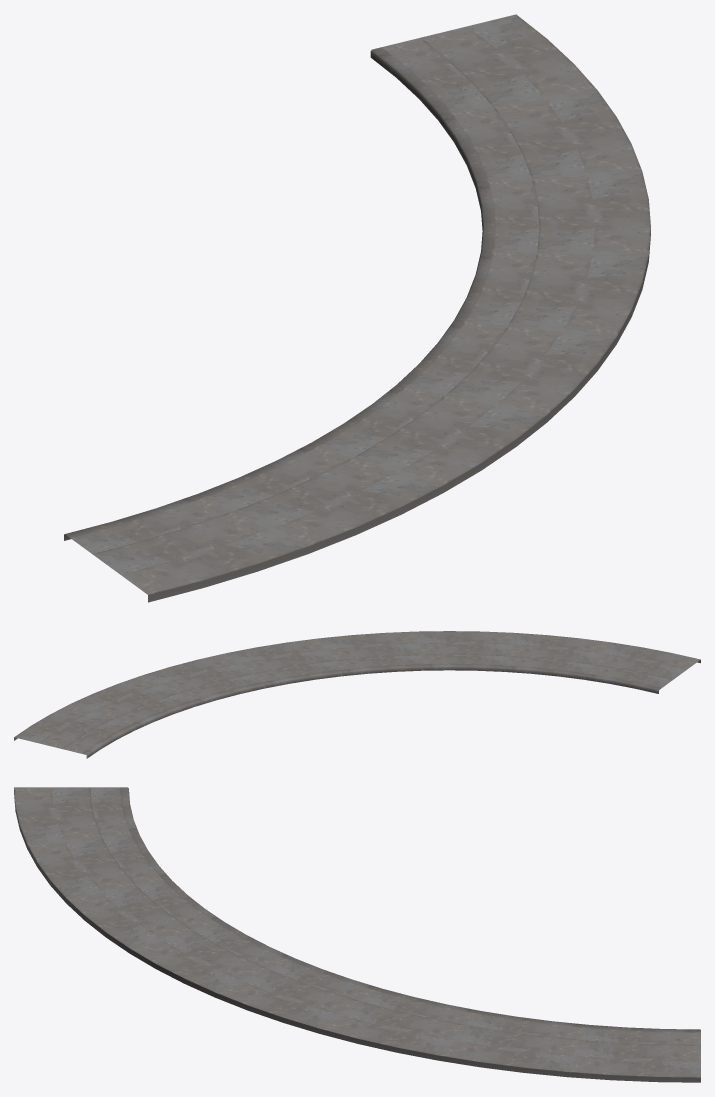
File: Street_Curve_4Lane_Short_Curb.gltf
The picture shows the model from 3 angles, top to bottom: view 1: azimuth 30°, elevation 25°; view 2: azimuth 150°, elevation 25°; view 3: azimuth 270°, elevation 25°; orthographic projection. The views are drawn at different scales.
Visible parts, largest first — view 1: Street_Curve_4Lane_Short_Curb; view 2: Street_Curve_4Lane_Short_Curb; view 3: Street_Curve_4Lane_Short_Curb.
Boxes of the visible parts, x1,y1,x2,y2 form: Street_Curve_4Lane_Short_Curb: (64, 14, 650, 602); Street_Curve_4Lane_Short_Curb: (14, 631, 700, 758); Street_Curve_4Lane_Short_Curb: (14, 787, 700, 1082).
Bounding box in the file's own units: 18 × 0.15 × 18.
Materials: 1 (1 with a texture image).
